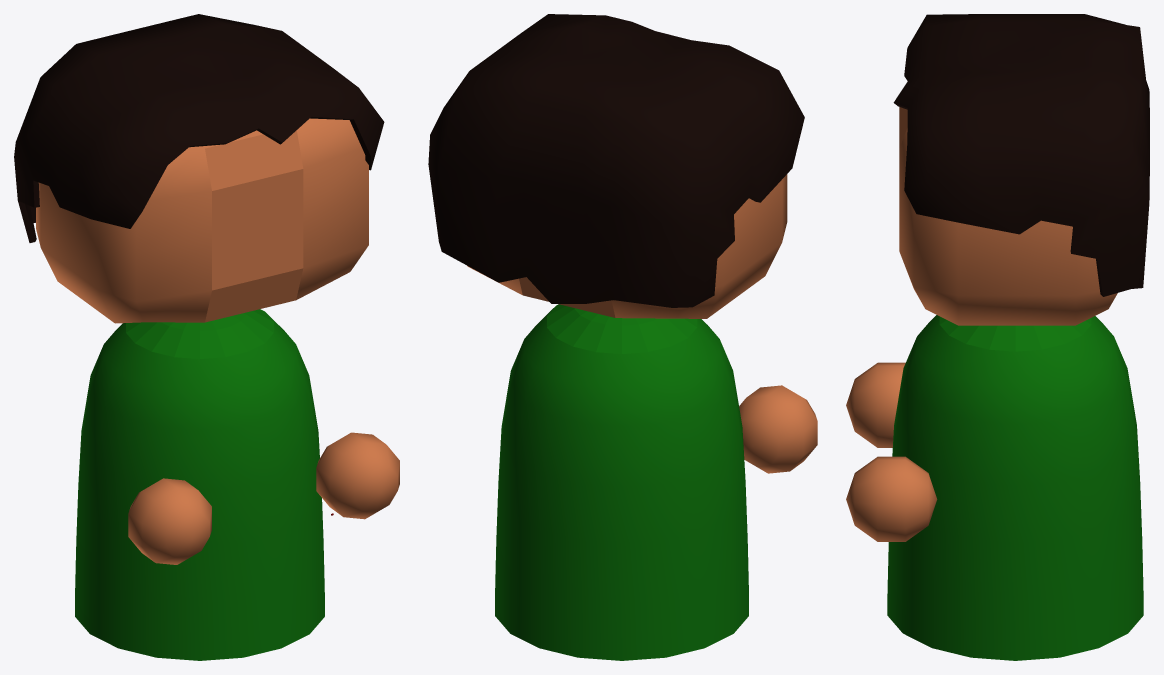
Rendered from Reponer.fbx.
3 views of the same model, side by side, from view 1: azimuth 30°, elevation 25°; view 2: azimuth 150°, elevation 25°; view 3: azimuth 270°, elevation 25° (orthographic). The views are drawn at different scales.
Visible parts, largest first — view 1: Cylinder001, Box001, Plane001, Sphere002, Sphere001; view 2: Plane001, Cylinder001, Box001, Sphere002; view 3: Cylinder001, Plane001, Box001, Sphere001, Sphere002.
Part boxes in pixels (left/top/right/bottom): Cylinder001: left=75, top=309, right=324, bottom=660; Box001: left=36, top=118, right=368, bottom=323; Plane001: left=14, top=14, right=384, bottom=242; Sphere002: left=128, top=478, right=211, bottom=564; Sphere001: left=316, top=432, right=399, bottom=519; Plane001: left=428, top=14, right=804, bottom=307; Cylinder001: left=495, top=304, right=748, bottom=660; Box001: left=467, top=174, right=787, bottom=318; Sphere002: left=739, top=385, right=817, bottom=473; Cylinder001: left=887, top=315, right=1143, bottom=660; Plane001: left=893, top=14, right=1149, bottom=296; Box001: left=899, top=107, right=1117, bottom=325; Sphere001: left=846, top=456, right=937, bottom=541; Sphere002: left=846, top=362, right=905, bottom=447.
Size of the model in its own units: 0.0463 by 0.0423 by 0.0856.
